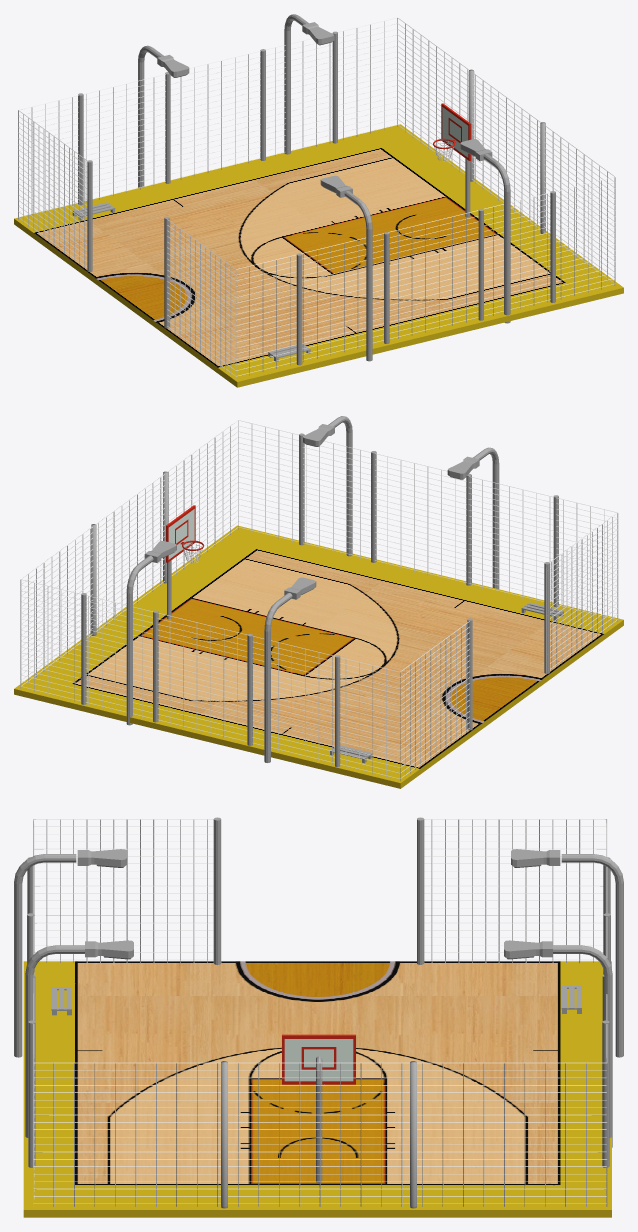
File: basketball_court.fbx
The picture shows the model from 3 angles, top to bottom: view 1: azimuth 30°, elevation 25°; view 2: azimuth 150°, elevation 25°; view 3: azimuth 270°, elevation 25°; orthographic projection. The views are drawn at different scales.
Parts seen in each view (by area): view 1: Cube.008, Plane.001, Cylinder.008, Cylinder.007, Cylinder.002, Cylinder.004, Cylinder.005, Cylinder.006, Cylinder.001, Cylinder.003, Cylinder.009, Plane.003 (+1 smaller); view 2: Cube.008, Plane.001, Cylinder.008, Cylinder.007, Cylinder.004, Cylinder.005, Cylinder.006, Cylinder.001, Cylinder.002, Cylinder.003, Cylinder.009, Plane.003 (+1 smaller); view 3: Cube.008, Plane.001, Cylinder.008, Cylinder.009, Cylinder.007, Cylinder.006, Cylinder.001, Cylinder.003, Plane.003, Plane.004, Cylinder, Cylinder.002 (+1 smaller).
Boxes of the visible parts, x1=… form: Cube.008: x1=14, y1=124, x2=623, y2=387; Plane.001: x1=18, y1=17, x2=615, y2=378; Cylinder.008: x1=138, y1=45, x2=372, y2=361; Cylinder.007: x1=284, y1=14, x2=510, y2=323; Cylinder.002: x1=78, y1=93, x2=302, y2=365; Cylinder.004: x1=260, y1=49, x2=483, y2=320; Cylinder.005: x1=165, y1=72, x2=389, y2=343; Cylinder.006: x1=87, y1=160, x2=169, y2=328; Cylinder.001: x1=332, y1=31, x2=555, y2=302; Cylinder.003: x1=468, y1=69, x2=545, y2=233; Cylinder.009: x1=441, y1=103, x2=471, y2=160; Plane.003: x1=157, y1=54, x2=352, y2=197; Cube.008: x1=14, y1=525, x2=623, y2=788; Plane.001: x1=20, y1=420, x2=618, y2=780; Cylinder.008: x1=264, y1=447, x2=499, y2=762; Cylinder.007: x1=126, y1=416, x2=352, y2=725; Cylinder.004: x1=153, y1=451, x2=376, y2=722; Cylinder.005: x1=247, y1=473, x2=471, y2=745; Cylinder.006: x1=467, y1=562, x2=549, y2=730; Cylinder.001: x1=81, y1=433, x2=304, y2=704; Cylinder.002: x1=335, y1=495, x2=558, y2=766; Cylinder.003: x1=91, y1=471, x2=168, y2=635; Cylinder.009: x1=166, y1=505, x2=195, y2=562; Plane.003: x1=284, y1=456, x2=479, y2=599; Cube.008: x1=23, y1=961, x2=611, y2=1217; Plane.001: x1=33, y1=819, x2=607, y2=1206; Cylinder.008: x1=14, y1=854, x2=623, y2=1057; Cylinder.009: x1=282, y1=1034, x2=355, y2=1084; Cylinder.007: x1=25, y1=945, x2=612, y2=1147; Cylinder.006: x1=213, y1=817, x2=424, y2=964; Cylinder.001: x1=28, y1=1020, x2=609, y2=1167; Cylinder.003: x1=221, y1=1061, x2=416, y2=1208; Plane.003: x1=77, y1=849, x2=560, y2=867; Plane.004: x1=85, y1=940, x2=552, y2=959; Cylinder: x1=316, y1=1056, x2=322, y2=1182; Cylinder.002: x1=27, y1=857, x2=610, y2=974.
Size of what is drawn, in the model's own units: 279 by 105 by 289.
